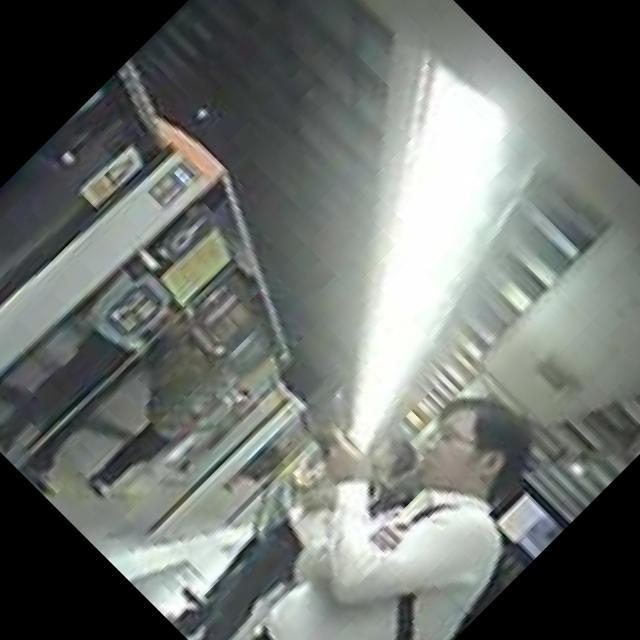person: (154, 325, 599, 640), (161, 403, 431, 640), (68, 326, 255, 513)
